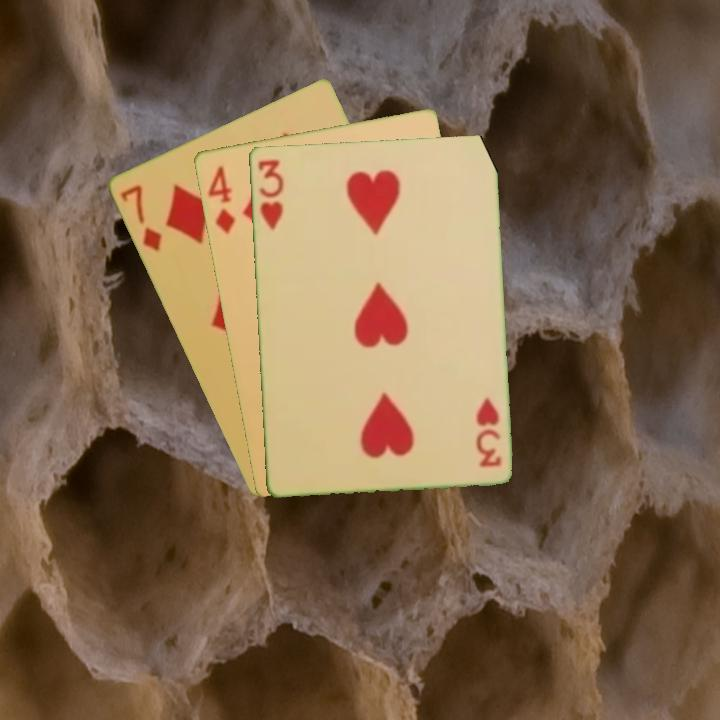3h: (254, 155, 287, 232), (472, 394, 504, 470)
4d: (204, 162, 237, 237)
7d: (116, 181, 164, 254)
